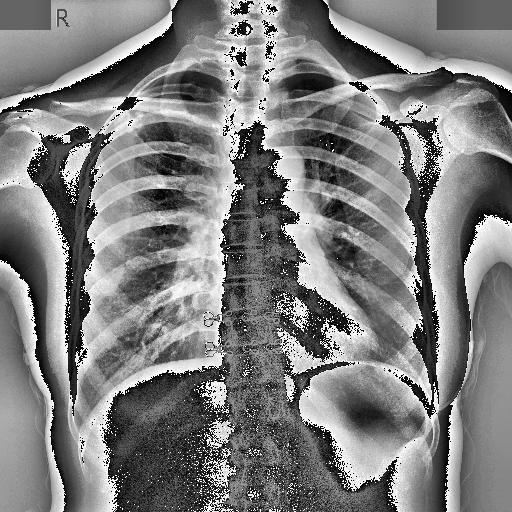0- Aortic enlargement: (255, 146, 306, 192)
13- Pulmonary fibrosis: (117, 108, 145, 138), (126, 104, 146, 136), (125, 107, 144, 136)
2- Calcification: (117, 108, 145, 138), (126, 104, 146, 136), (125, 107, 144, 136)
